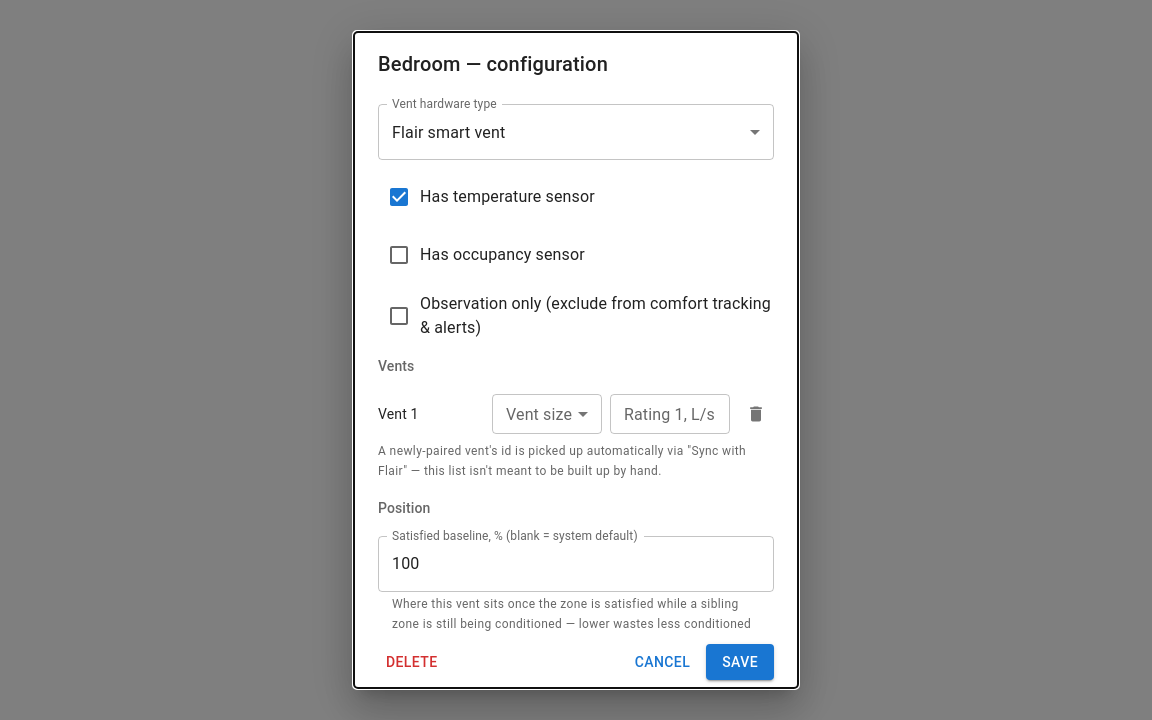
Test: ZoneDetailDialog › shows the server's rejection when enabling observation-only fails validation
Click the checkbox labelled "Observation only (exclude from comfort tracking & alerts)" at (576, 316), box [378,292,774,340]
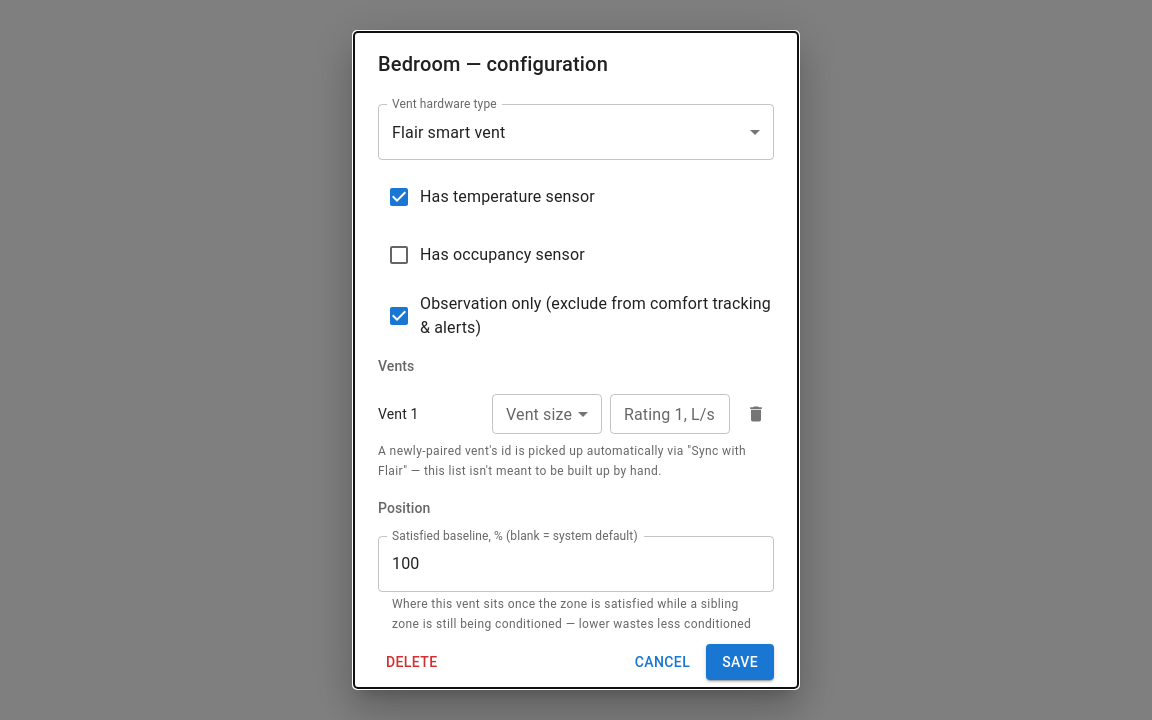
Click the button "Save" at (740, 662), box [706,644,774,680]
(page scrolled)
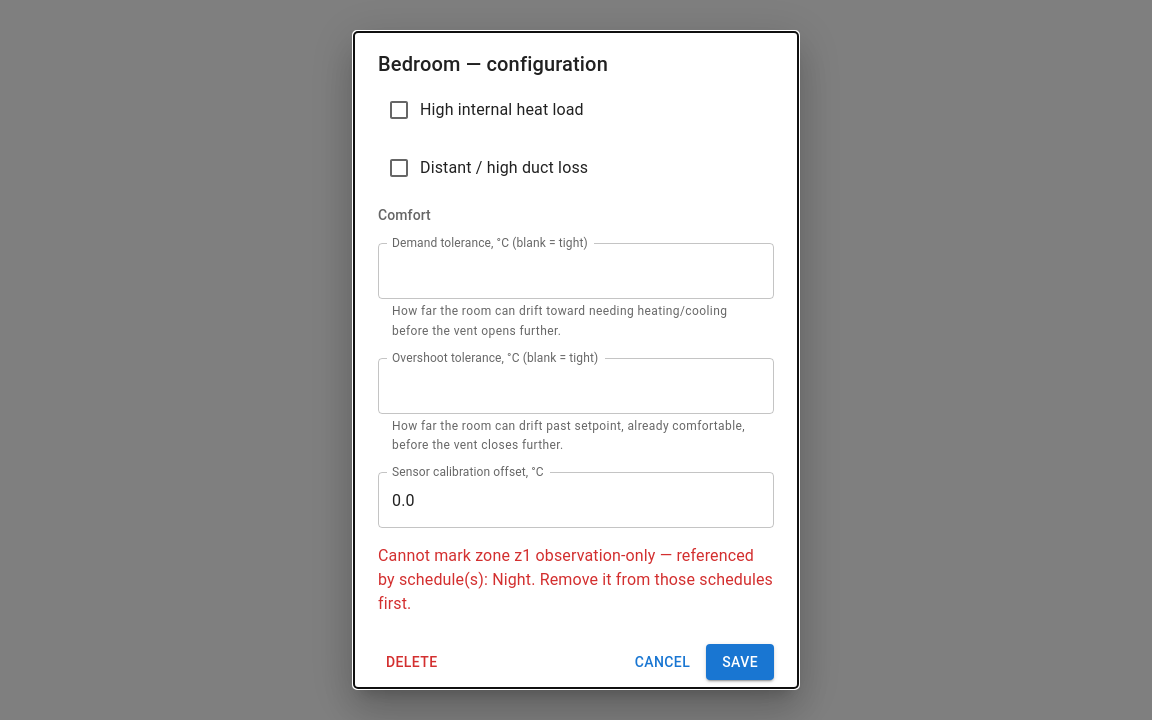
Expected: the text "referenced by schedule" is shown, [378,546,773,613]
